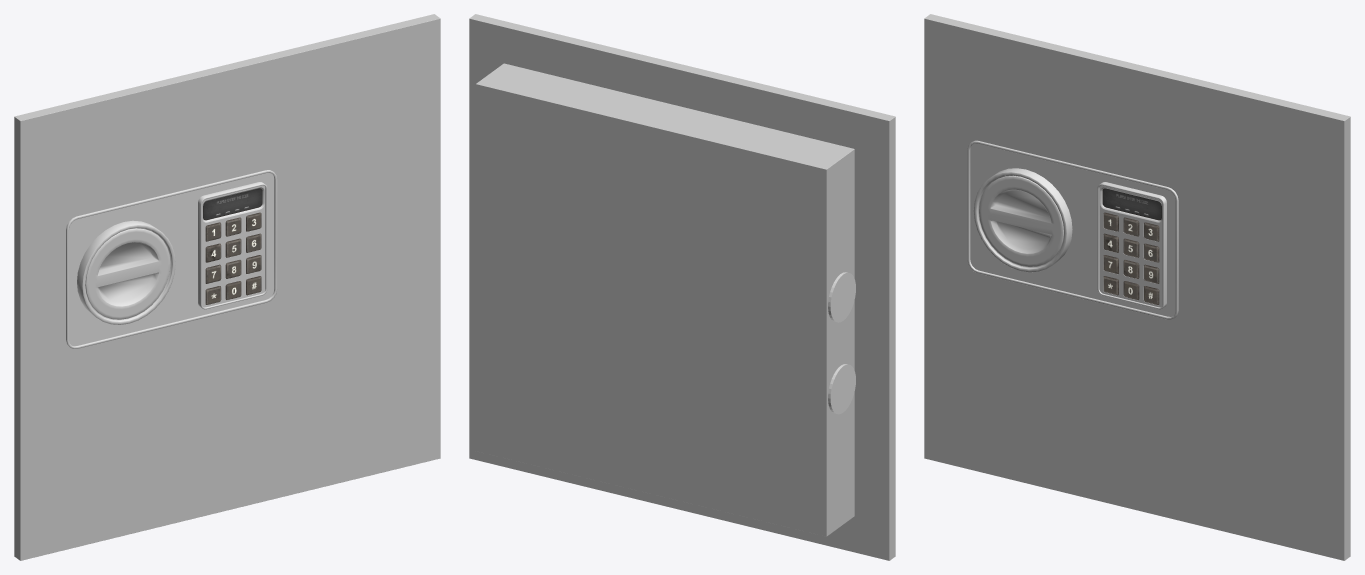
Rendered from safeDoor.glb.
3 views of the same model, side by side, from view 1: azimuth 30°, elevation 25°; view 2: azimuth 150°, elevation 25°; view 3: azimuth 330°, elevation 25° (orthographic).
Parts seen in each view (by area): view 1: Door, Lock, Screen; view 2: Door; view 3: Door, Lock, Screen.
Part boxes in pixels (box(x1,y1,x2,y2)): Door: box(14, 14, 440, 560); Lock: box(85, 228, 170, 319); Screen: box(203, 188, 262, 220); Door: box(469, 14, 895, 560); Door: box(924, 14, 1350, 560); Lock: box(979, 175, 1063, 266); Screen: box(1102, 188, 1161, 220).
Bounding box in the file's own units: 0.5856 × 0.5856 × 0.0984.
Materials: 4 (1 with a texture image).
